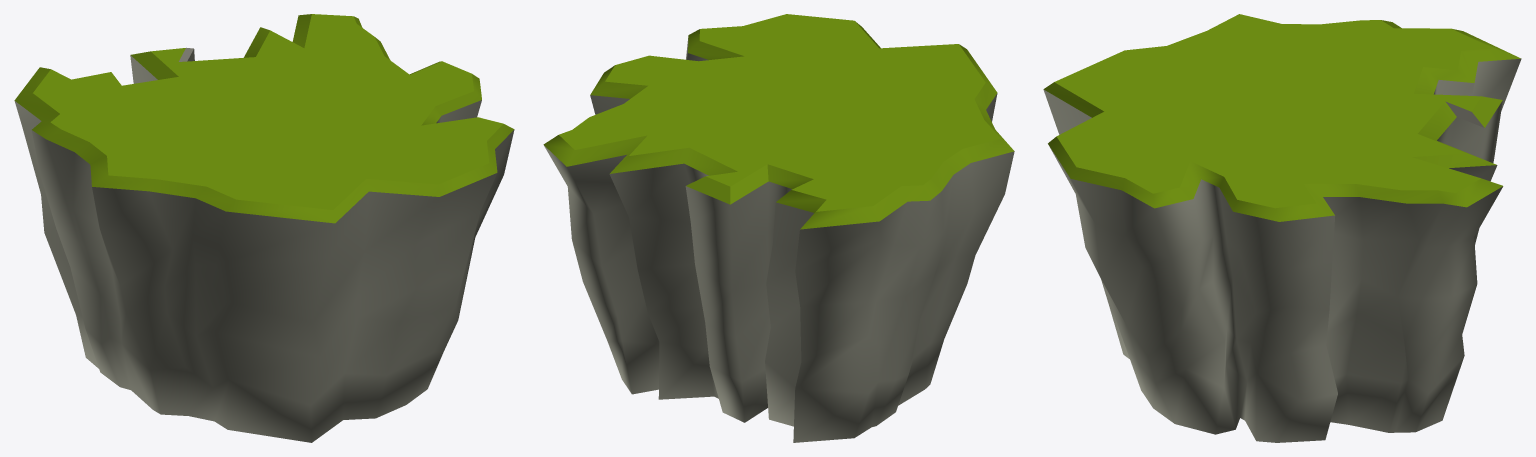
File: IslandBig3Smooth.fbx
The picture shows the model from 3 angles, left to right: view 1: azimuth 30°, elevation 25°; view 2: azimuth 150°, elevation 25°; view 3: azimuth 270°, elevation 25°; orthographic projection. The views are drawn at different scales.
Parts seen in each view (by area): view 1: Plane.001; view 2: Plane.001; view 3: Plane.001.
Part boxes in pixels (x1,y1,x2,y2): Plane.001: (14,14,514,442); Plane.001: (543,14,1014,442); Plane.001: (1043,14,1521,442).
Bounding box in the file's own units: 1475 × 909 × 1472.
